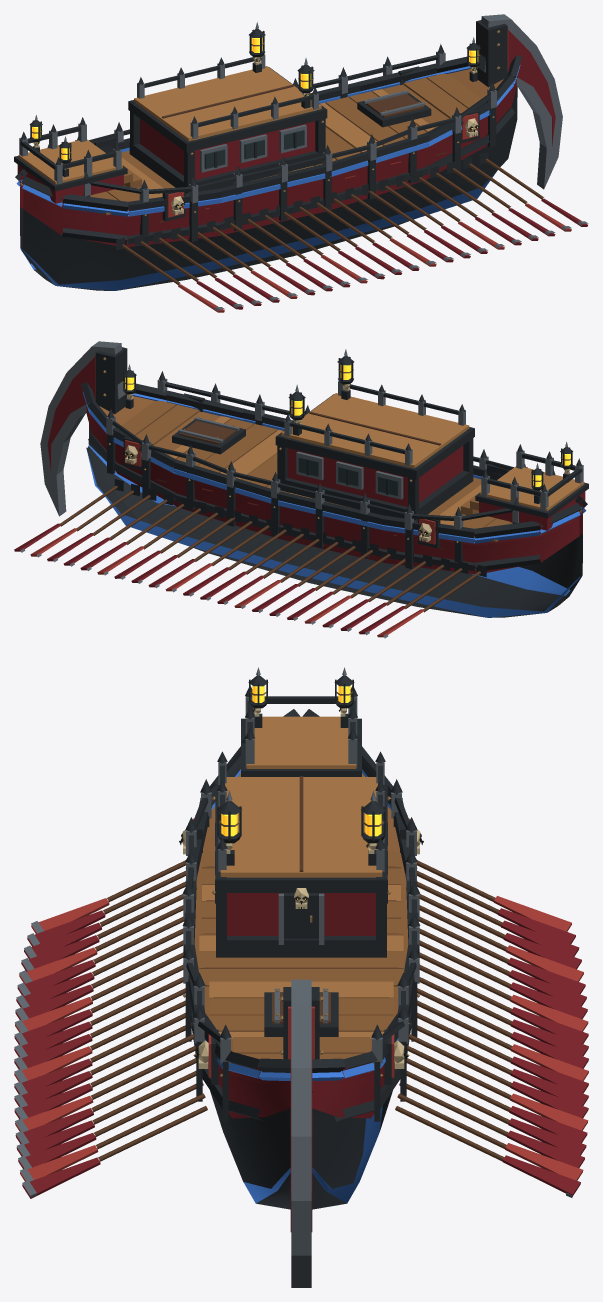
The picture shows the model from 3 angles, top to bottom: view 1: azimuth 30°, elevation 25°; view 2: azimuth 150°, elevation 25°; view 3: azimuth 270°, elevation 25°; orthographic projection. The views are drawn at different scales.
Parts seen in each view (by area): view 1: hull-1-strake-2, hull-1-strake-3, deckhouse-roof, hull-1-strake-1, scythe-forged-blade, deckhouse-body, deckhouse-top-cornice, deckhouse-foundation, stern-platform-deck, scythe-stem-mount, scythe-crimson-inlay, deck-plank-13 (+29 smaller); view 2: hull-1-strake-0, hull--1-strake-3, deckhouse-roof, hull--1-strake-1, scythe-forged-blade, deckhouse-body, deckhouse-top-cornice, deckhouse-foundation, stern-platform-deck, scythe-stem-mount, hull-1-strake-2, hull-1-strake-1 (+33 smaller); view 3: deckhouse-roof, scythe-forged-blade, stern-platform-deck, deckhouse-body, hull-1-strake-2, hull--1-strake-0, deckhouse-foundation, deckhouse-top-cornice, deck-plank-11, deck-plank-10, deck-plank-12, continuous-deck (+54 smaller).
Part boxes in pixels (left/top/right/bottom): hull-1-strake-2: left=23, top=86, right=517, bottom=284; hull-1-strake-3: left=23, top=79, right=516, bottom=247; deckhouse-roof: left=134, top=66, right=321, bottom=141; hull-1-strake-1: left=23, top=170, right=497, bottom=290; scythe-forged-blade: left=477, top=14, right=562, bottom=189; deckhouse-body: left=140, top=119, right=315, bottom=179; deckhouse-top-cornice: left=128, top=67, right=327, bottom=152; deckhouse-foundation: left=129, top=142, right=324, bottom=193; stern-platform-deck: left=18, top=139, right=122, bottom=184; scythe-stem-mount: left=476, top=20, right=507, bottom=87; scythe-crimson-inlay: left=508, top=30, right=555, bottom=145; deck-plank-13: left=325, top=97, right=405, bottom=145; hull-1-strake-0: left=87, top=446, right=581, bottom=610; hull--1-strake-3: left=86, top=406, right=579, bottom=574; deckhouse-roof: left=281, top=393, right=469, bottom=468; hull--1-strake-1: left=87, top=451, right=579, bottom=617; scythe-forged-blade: left=40, top=341, right=125, bottom=516; deckhouse-body: left=287, top=445, right=463, bottom=506; deckhouse-top-cornice: left=275, top=394, right=474, bottom=479; deckhouse-foundation: left=280, top=469, right=473, bottom=520; stern-platform-deck: left=480, top=466, right=584, bottom=511; scythe-stem-mount: left=95, top=347, right=127, bottom=414; hull-1-strake-2: left=88, top=424, right=582, bottom=589; hull-1-strake-1: left=88, top=444, right=582, bottom=595; deckhouse-roof: left=220, top=777, right=382, bottom=877; scythe-forged-blade: left=291, top=979, right=311, bottom=1287; stern-platform-deck: left=246, top=716, right=356, bottom=768; deckhouse-body: left=227, top=893, right=375, bottom=935; hull-1-strake-2: left=210, top=1090, right=290, bottom=1188; hull--1-strake-0: left=312, top=1111, right=365, bottom=1209; deckhouse-foundation: left=216, top=936, right=386, bottom=957; deckhouse-top-cornice: left=215, top=779, right=387, bottom=892; deck-plank-11: left=199, top=969, right=403, bottom=986; deck-plank-10: left=199, top=952, right=403, bottom=968; deck-plank-12: left=209, top=981, right=393, bottom=998; continuous-deck: left=194, top=773, right=408, bottom=1051.
Size of the model in its own units: 2.1 by 0.8045 by 1.31.
